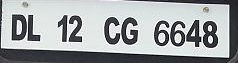1: (56, 14, 68, 43)
2: (68, 15, 83, 43)
4: (186, 19, 202, 48)
6: (153, 19, 170, 47), (170, 20, 186, 48)
8: (202, 20, 219, 48)
C: (102, 16, 121, 46)
D: (10, 13, 28, 40)
G: (121, 17, 140, 46)
L: (27, 14, 41, 42)
